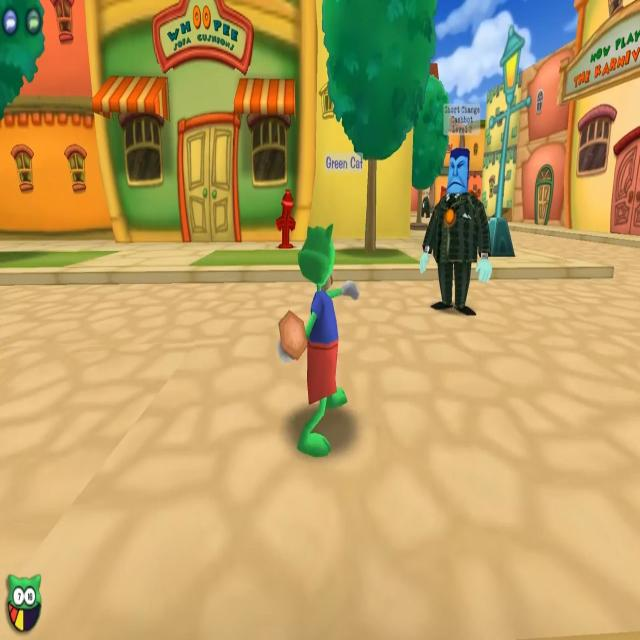shortchange: (417, 103, 493, 321)
